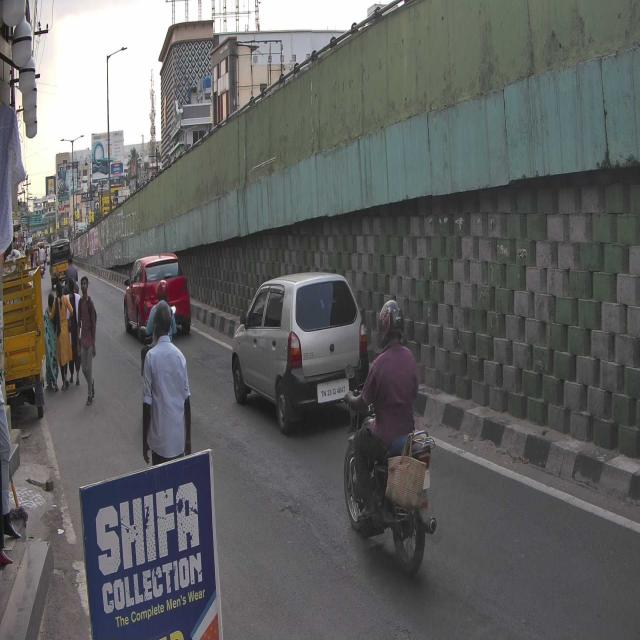single_rider: (339, 295, 438, 577)
